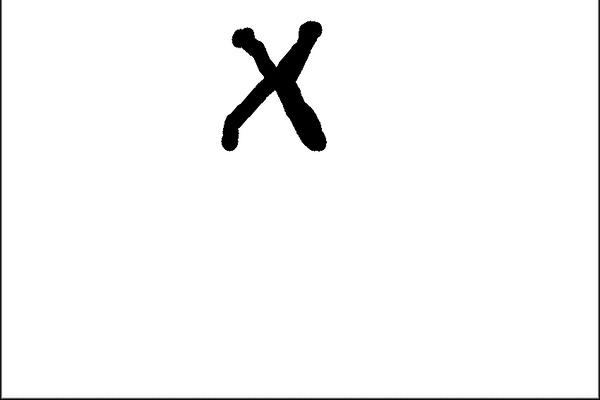Z: (189, 14, 345, 157)
